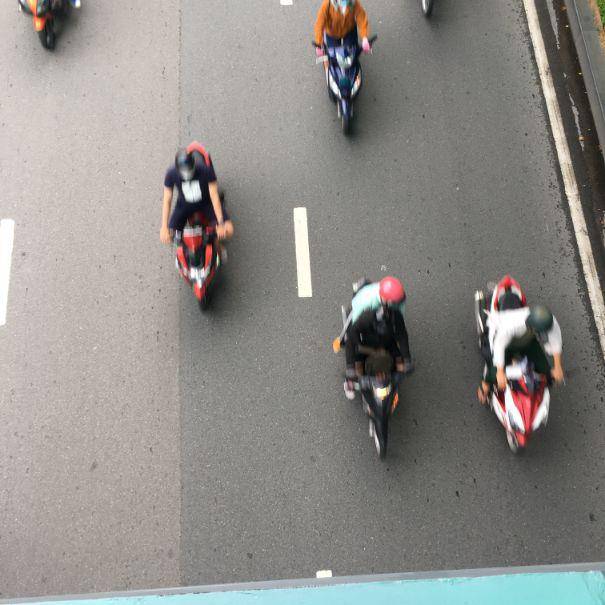motorbike: (470, 272, 566, 458), (160, 137, 240, 309), (345, 300, 409, 461), (309, 18, 377, 138), (17, 0, 84, 50)
